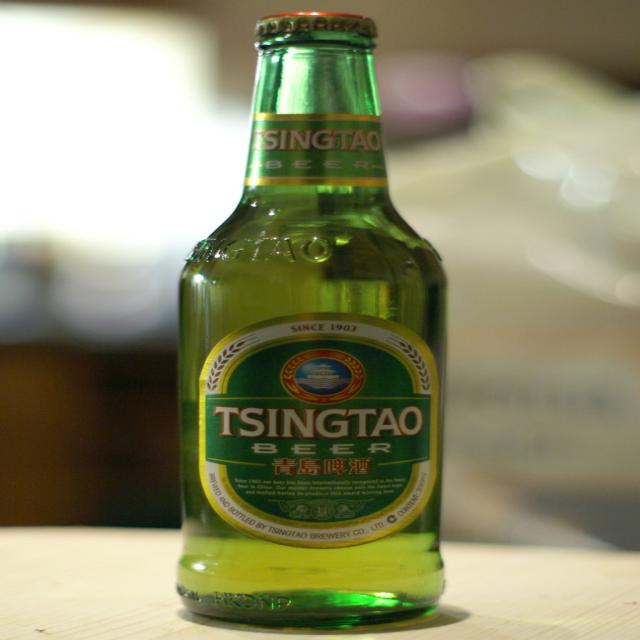tsingtao: (200, 314, 442, 550)
